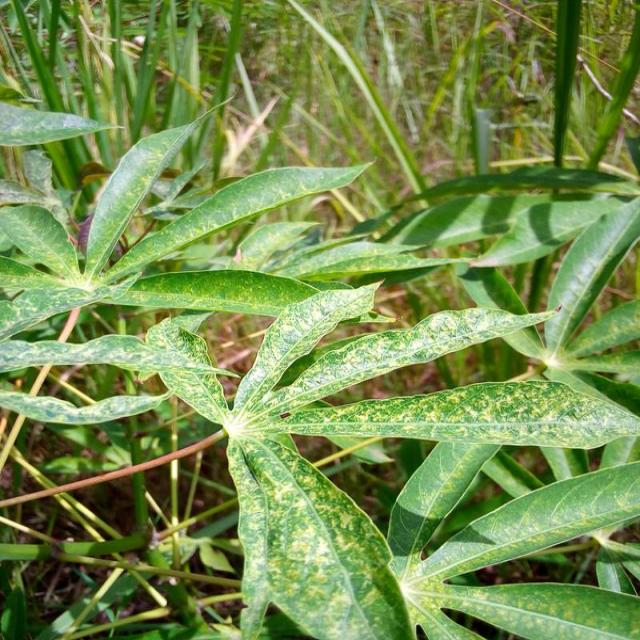cassava leaf: (2, 93, 639, 638), (227, 431, 418, 638)
